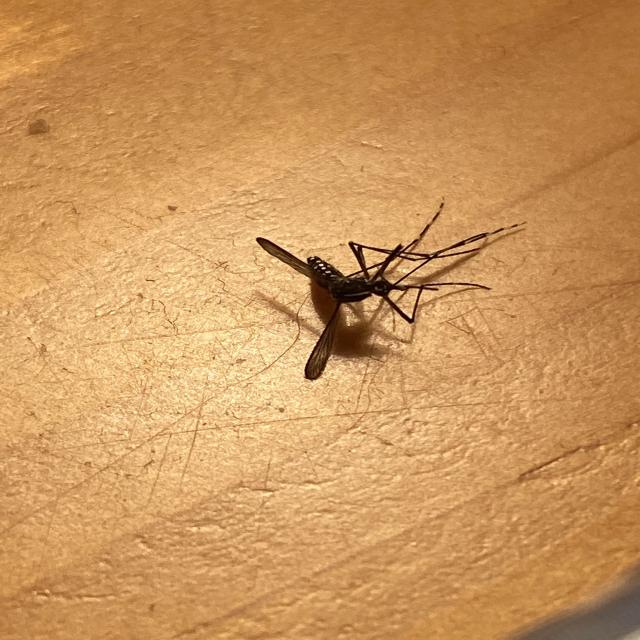albopictus: (241, 188, 528, 376)
